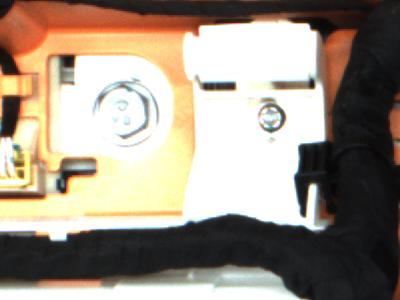nut_b: (89, 79, 167, 150)
screw_m: (248, 99, 295, 141)
